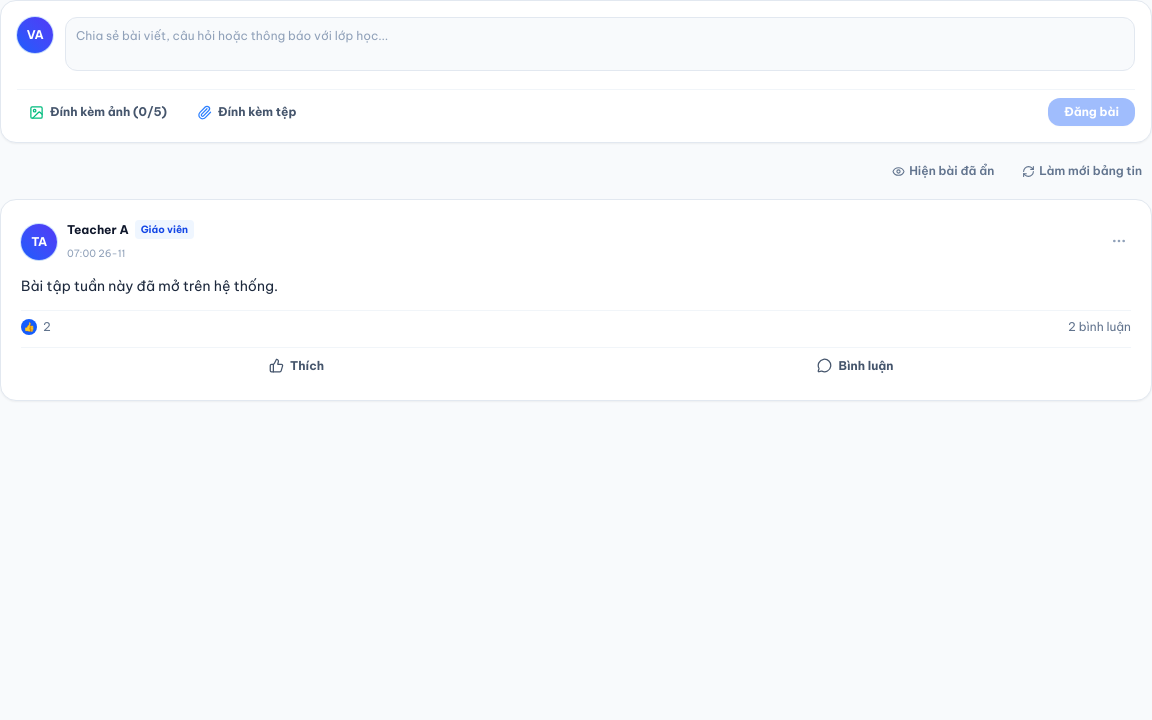
Test case: ClassFeedView › tự động nạp thêm bình luận phân trang khi mở bài viết có nhiều bình luận (commentsHasMore)
The width and height of the screenshot is (1152, 720).
Check: the button "2 bình luận" is shown, box [1068, 319, 1131, 335]
Click the button "Bình luận" at (856, 366), box [580, 352, 1131, 380]
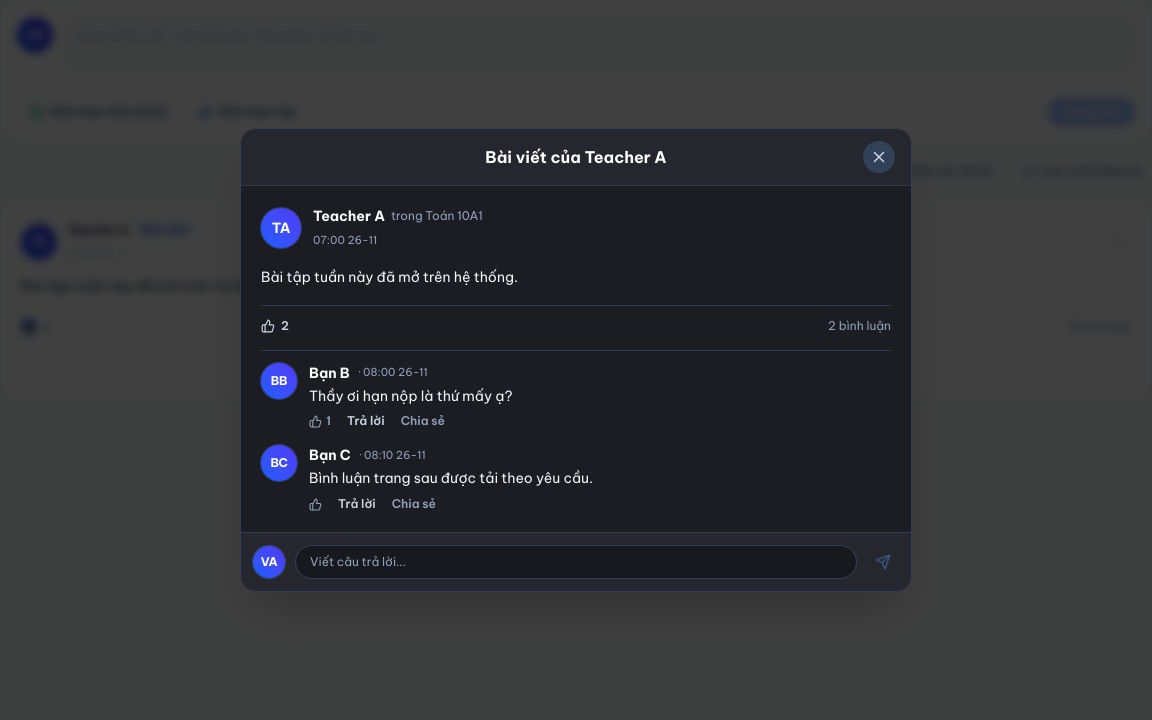
Check: the text "Bình luận trang sau được tải theo yêu cầu." is shown, box [309, 469, 593, 487]
